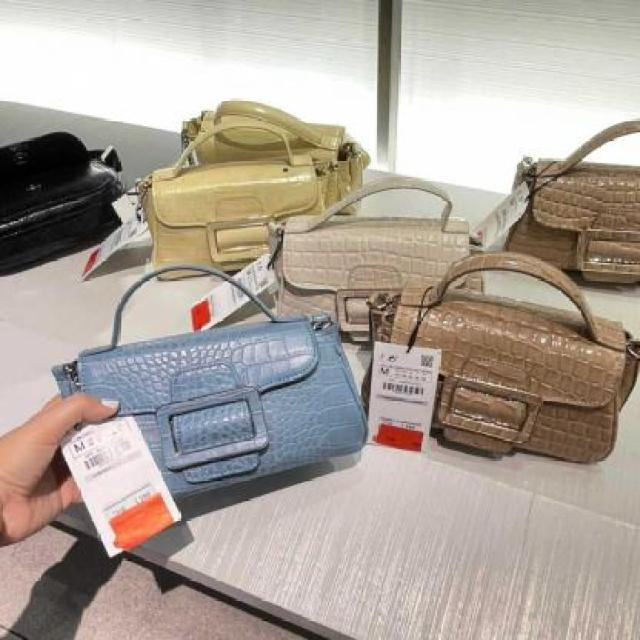Bag: (50, 288, 387, 530), (365, 276, 633, 479), (260, 166, 509, 363), (121, 98, 334, 296)
